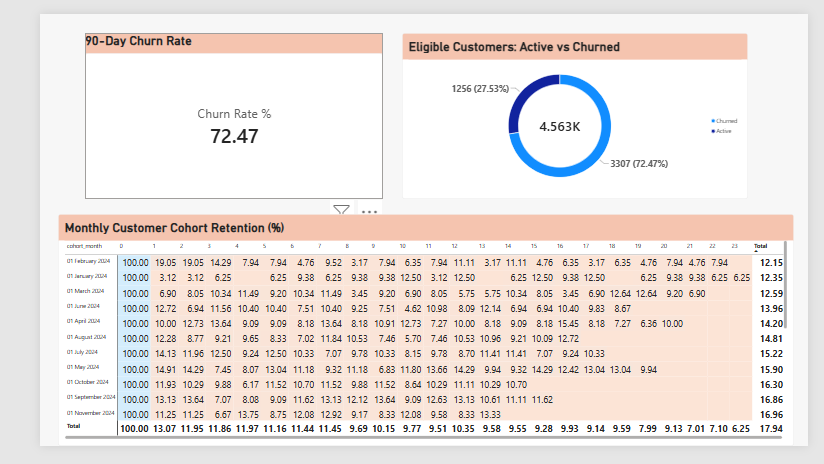

The dashboard page shown, as its layout file describes it:
{"tool":"powerbi","page":{"name":"Retention & Churn %","canvas":[1920,1080],"ordinal":1},"visuals":[{"type":"cardVisual","title":"90-Day Churn Rate","fields":{"Data":["cohort_retention.Churn Rate %"]},"box":[112.5,47.5,745,415],"z":0},{"type":"donutChart","title":"Eligible Customers: Active vs Churned","fields":{"Category":["customer_churn.status"],"Y":["CountNonNull(customer_churn.customer_id)"]},"box":[905,47.5,865,415],"z":1000},{"type":"pivotTable","title":"Monthly Customer Cohort Retention (%)","fields":{"Columns":["cohort_retention.cohort_index"],"Rows":["cohort_retention.cohort_month"],"Values":["Avg(cohort_retention.retention_rate)"]},"box":[45,500,1840,580],"z":2000}]}

Visuals, with their boxes in screenshot pixels (x1, y1, x2, y2), scaled from the page's 1920x1080 canvas onto the 824x464 screenshot:
"90-Day Churn Rate" cardVisual: 48:20:368:199
"Eligible Customers: Active vs Churned" donutChart: 388:20:760:199
"Monthly Customer Cohort Retention (%)" pivotTable: 19:215:809:463
